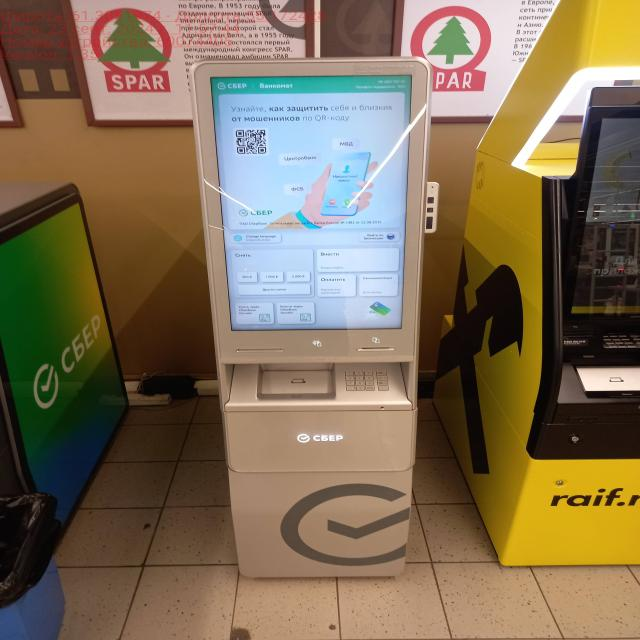bank: (186, 58, 422, 575), (0, 149, 126, 598)
